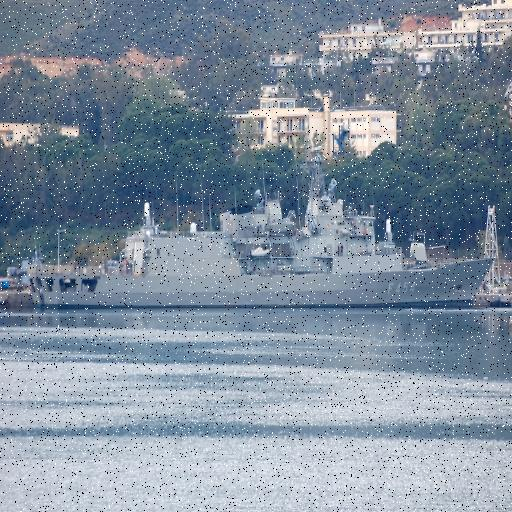Fragata: (24, 124, 499, 317)
